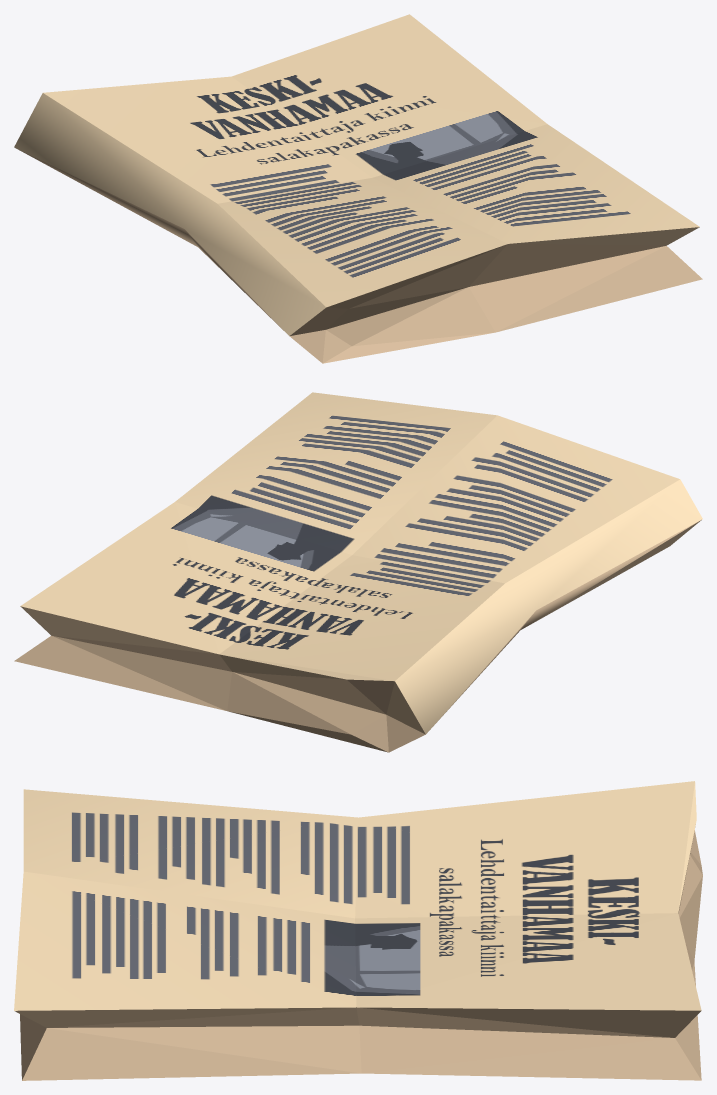
The model's file is newspaper_folded_vanhamaa.fbx.
3 views of the same model, one above another, from view 1: azimuth 30°, elevation 25°; view 2: azimuth 150°, elevation 25°; view 3: azimuth 270°, elevation 25° (orthographic). The views are drawn at different scales.
Visible parts, largest first — view 1: newspaper_folded_vanhamaa; view 2: newspaper_folded_vanhamaa; view 3: newspaper_folded_vanhamaa.
Part boxes in pixels (x1=…): newspaper_folded_vanhamaa: x1=14, y1=14, x2=702, y2=363; newspaper_folded_vanhamaa: x1=14, y1=392, x2=702, y2=752; newspaper_folded_vanhamaa: x1=14, y1=781, x2=702, y2=1080.
Size of the model in its own units: 35.69 by 7.01 by 44.37.
